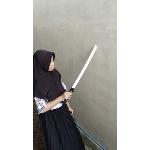Pedang: (60, 42, 100, 108)
